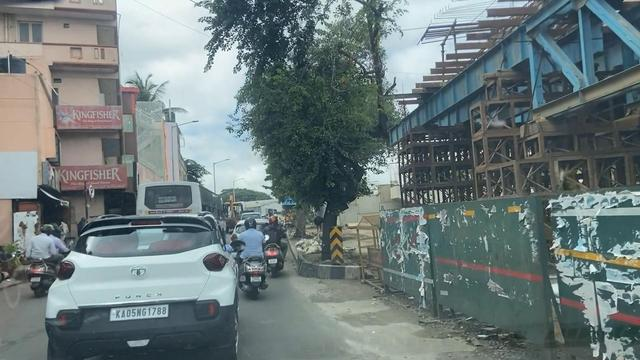LMV: (56, 233, 228, 352), (241, 217, 259, 291), (266, 211, 285, 277)
RoadDamages: (301, 278, 360, 319), (335, 337, 400, 360)
